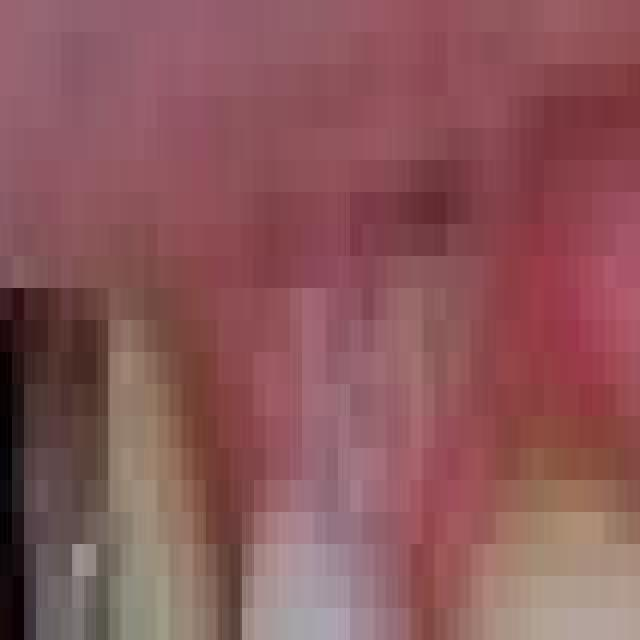calculus: (420, 350, 640, 604)
